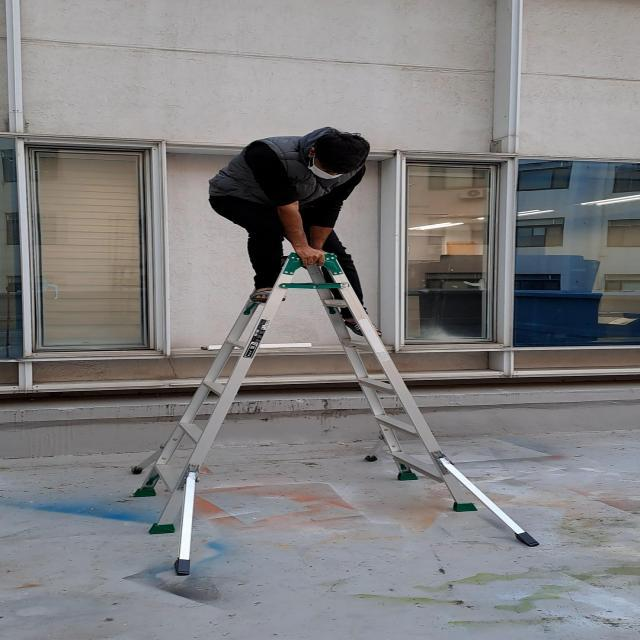boots: (135, 248, 539, 576)
vest: (210, 126, 402, 338)
